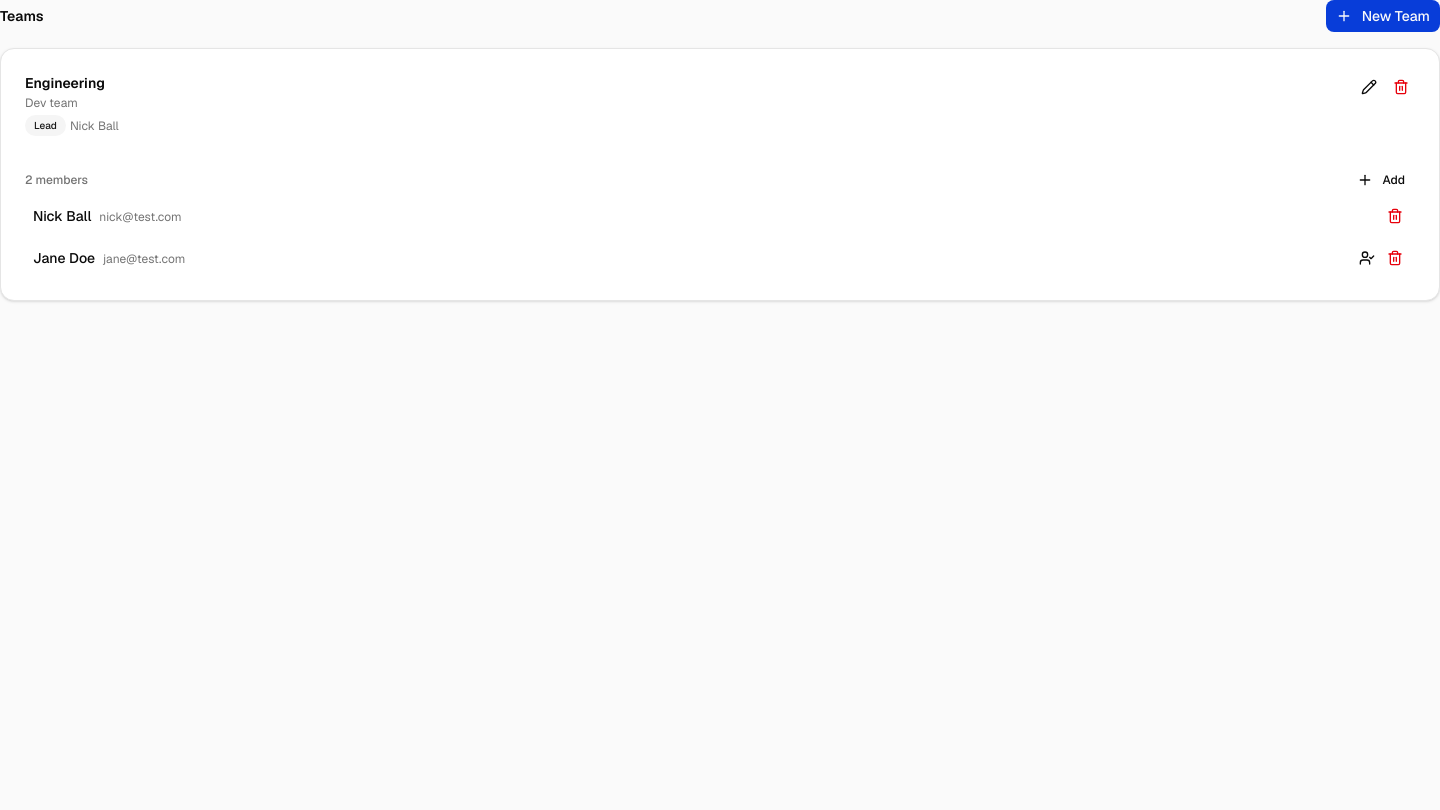
Test: TeamManagement › opens create team dialog
Click the button "New Team" at (1383, 16), box [1326,0,1439,32]
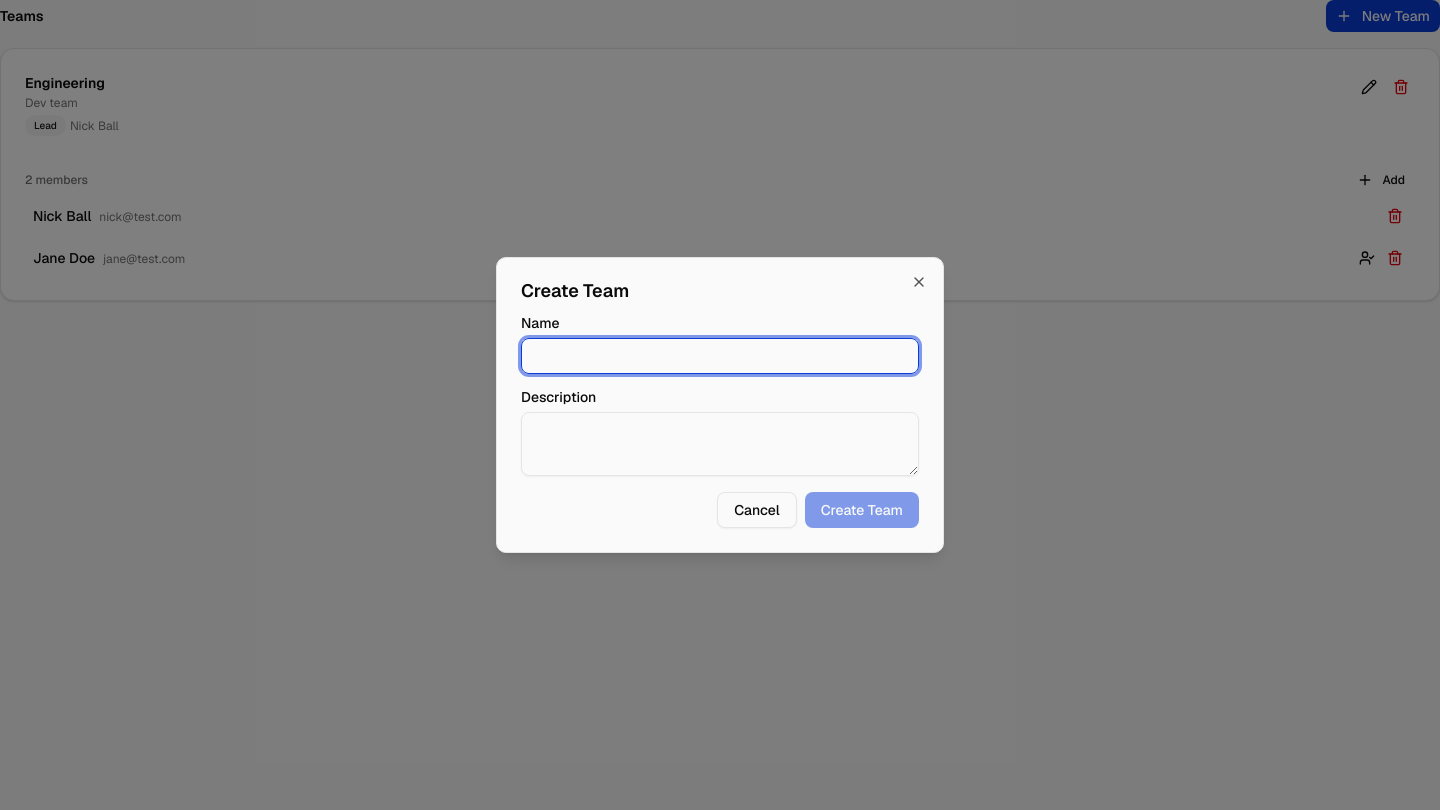
Check: the heading "Create Team" is shown, box [521,279,629,302]
